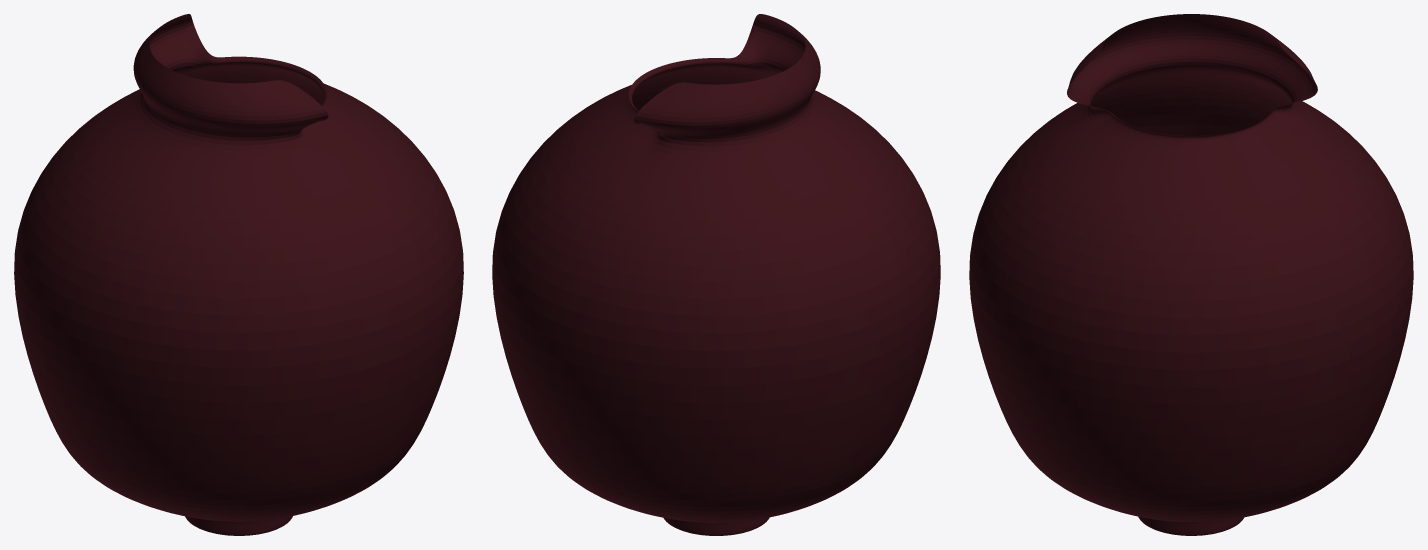
The model's file is Pot.gltf.
3 renders of one model, left to right at view 1: azimuth 30°, elevation 25°; view 2: azimuth 150°, elevation 25°; view 3: azimuth 270°, elevation 25°, orthographic.
Visible parts, largest first — view 1: Cylinder; view 2: Cylinder; view 3: Cylinder.
Boxes of the visible parts, x1,y1,x2,y2 form: Cylinder: [14, 14, 463, 535]; Cylinder: [492, 14, 940, 535]; Cylinder: [969, 14, 1413, 535].
Size of the model in its own units: 1.79 by 2.06 by 1.79.
